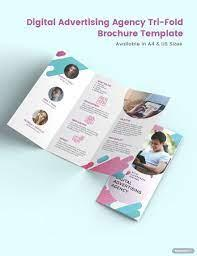paper: (7, 50, 182, 222)
